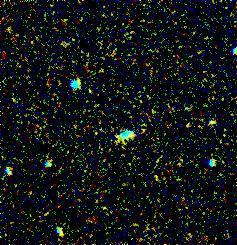star: (120, 118, 150, 148)
